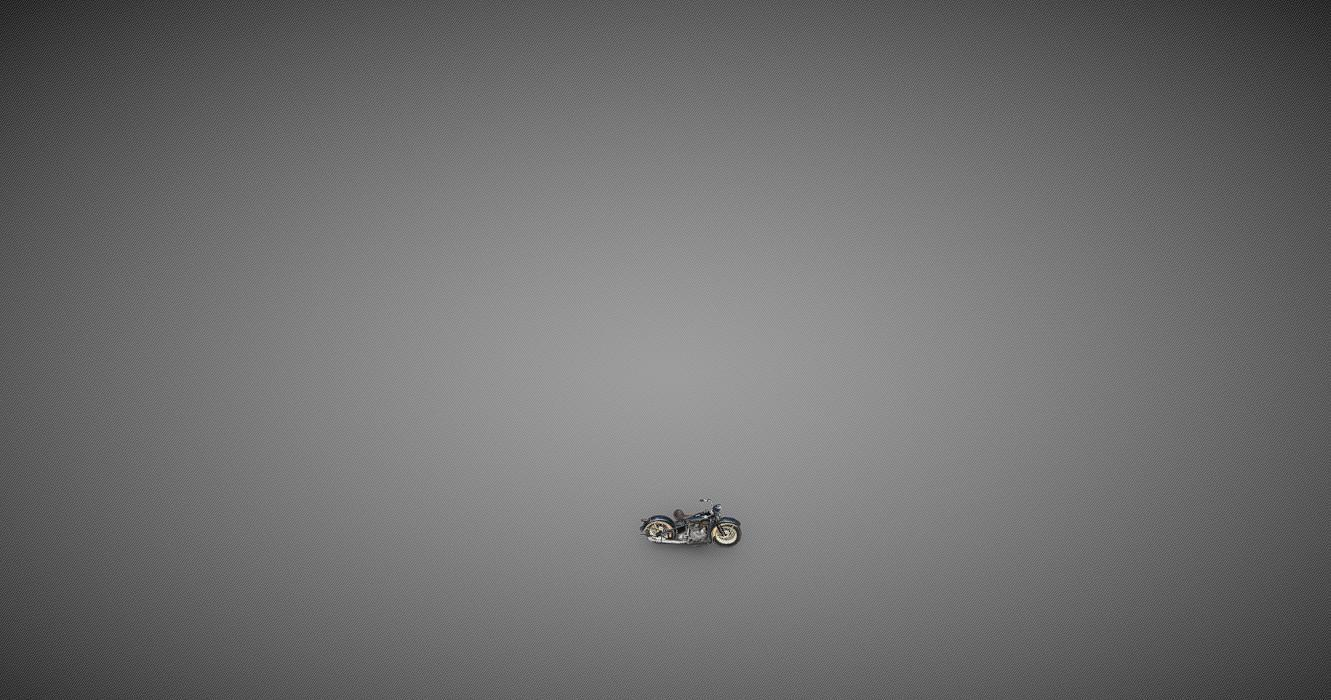Motorcycle: (638, 497, 742, 546)
